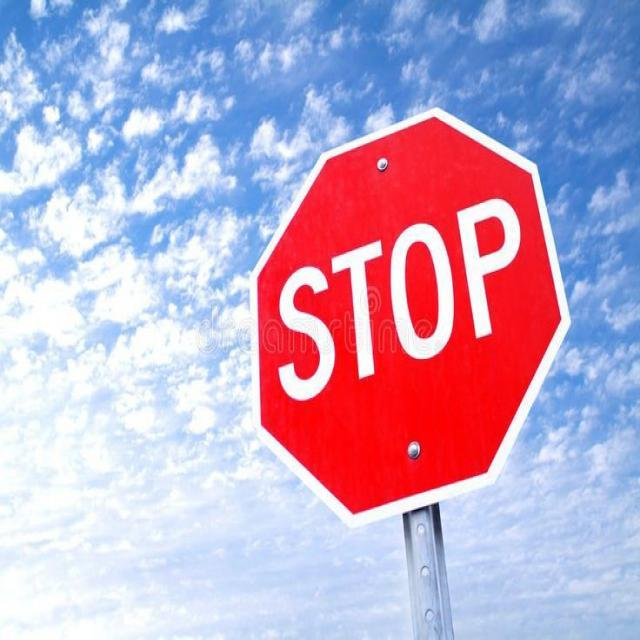stop: (248, 106, 571, 528)
